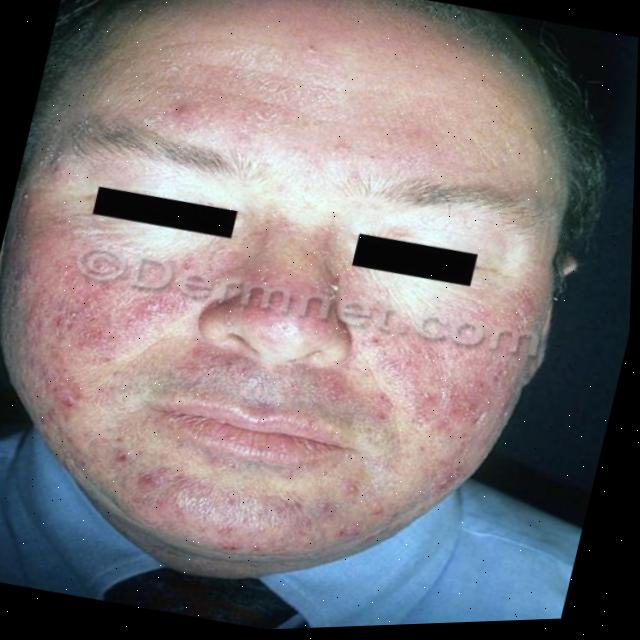Rosacea: (178, 0, 419, 193), (97, 435, 363, 588), (14, 250, 196, 438), (382, 337, 533, 492)
